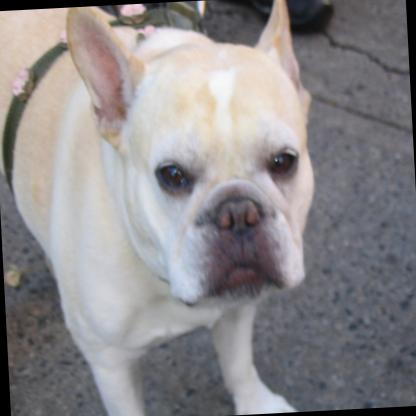French_bulldog: (0, 0, 327, 416)
